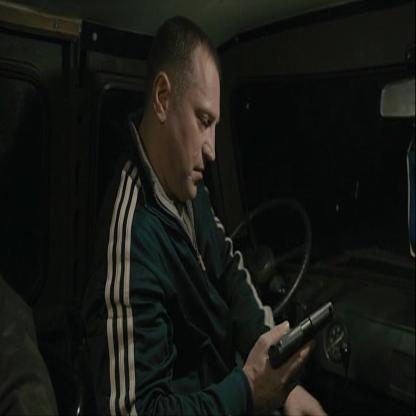gun: (267, 305, 337, 362)
